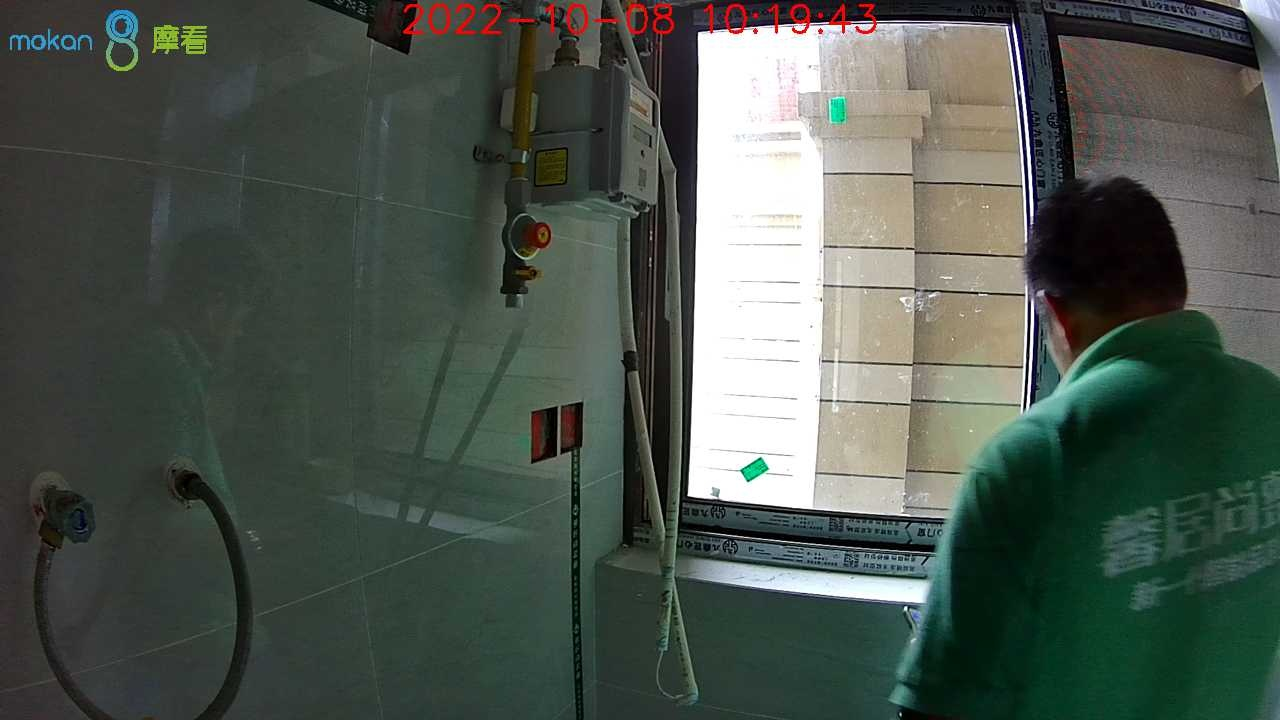people: (888, 176, 1279, 720)
window: (686, 18, 1280, 558)
